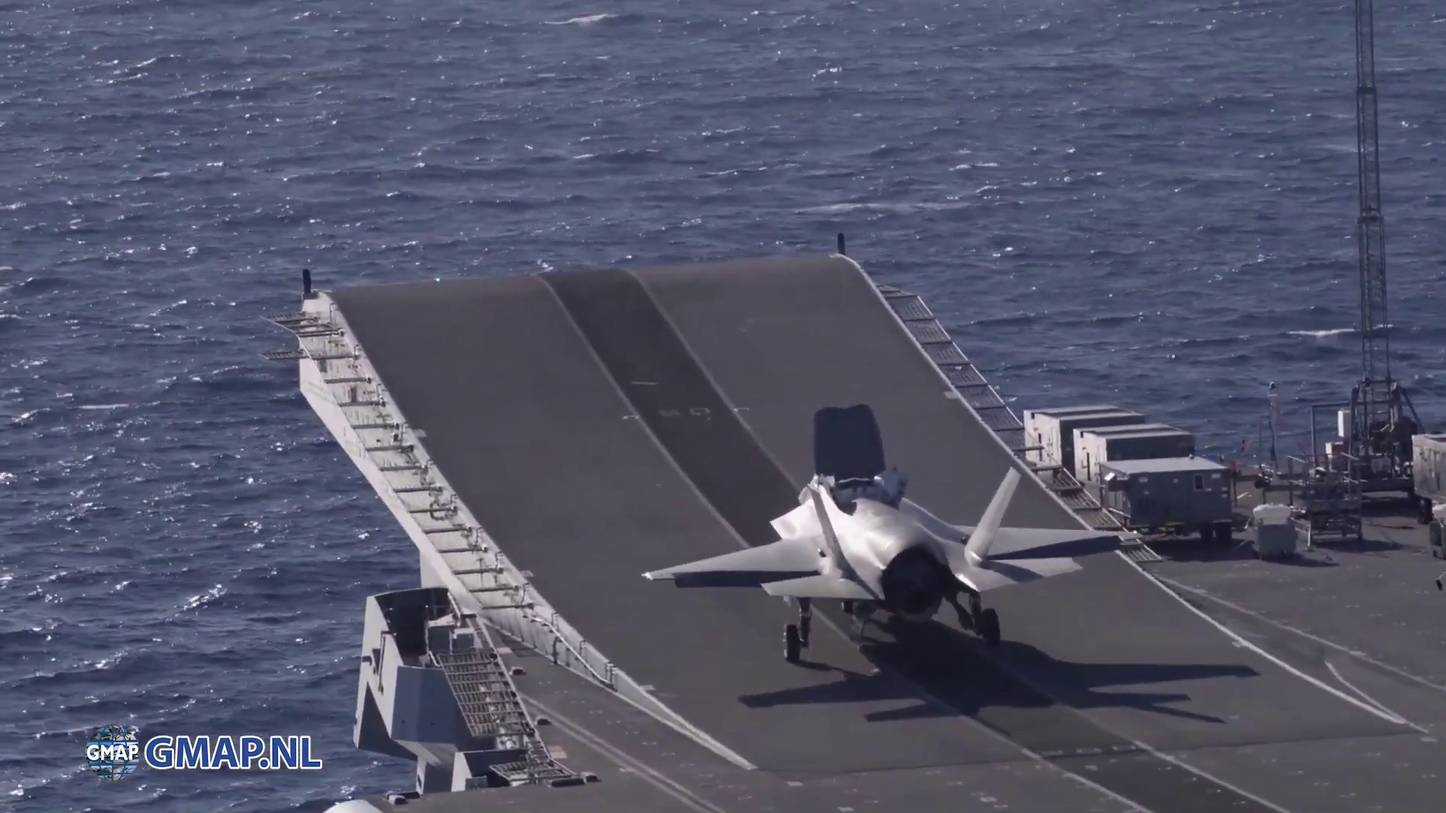F35: (631, 404, 1146, 672)
